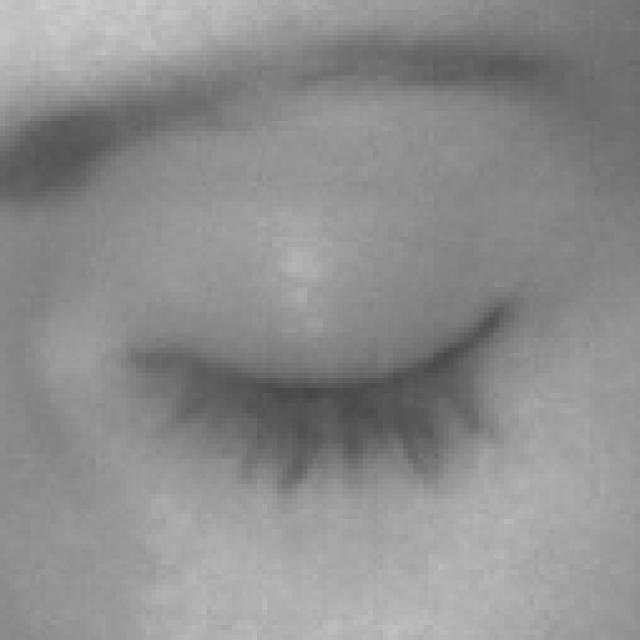close: (0, 24, 640, 580)
